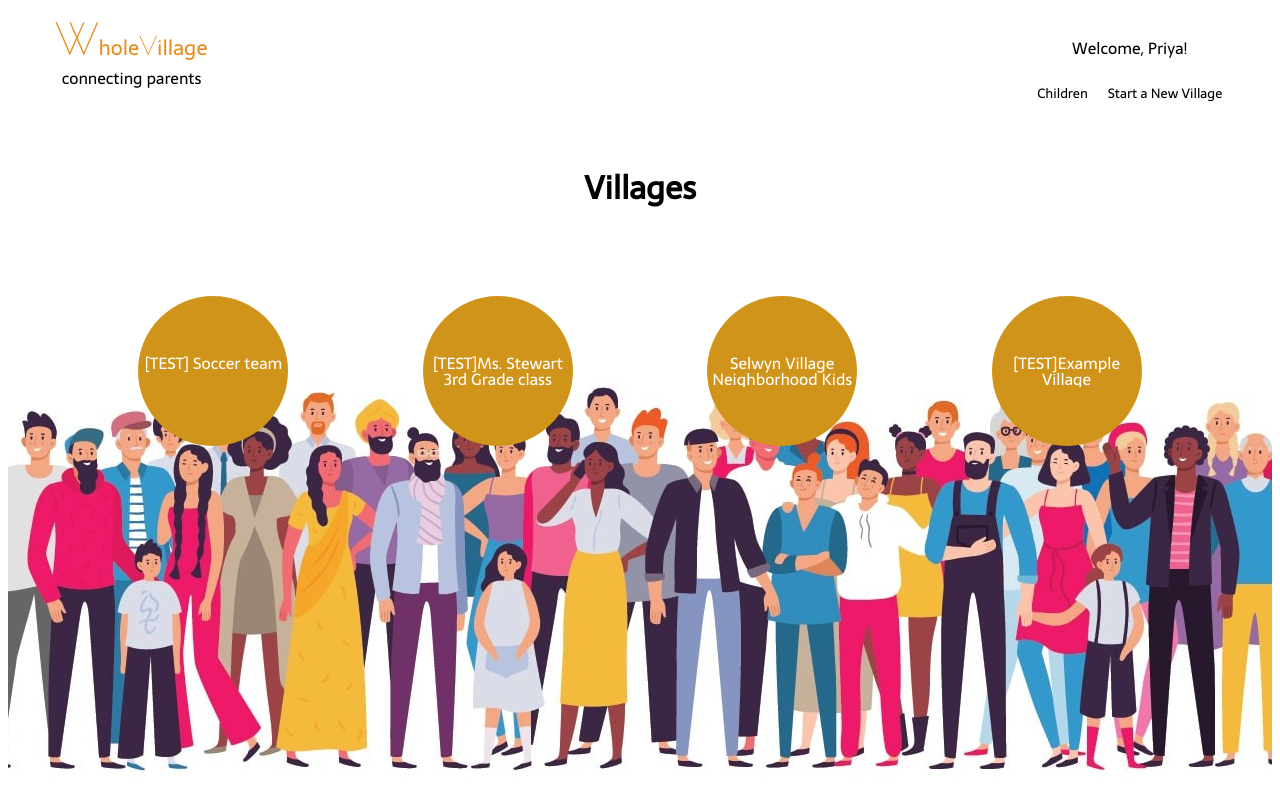
Scenario: Dashboard User Flows › Should be able to show village invitee list
Click the button with class "start-village-btn" at [1166, 93], box 1102,81 -> 1229,105
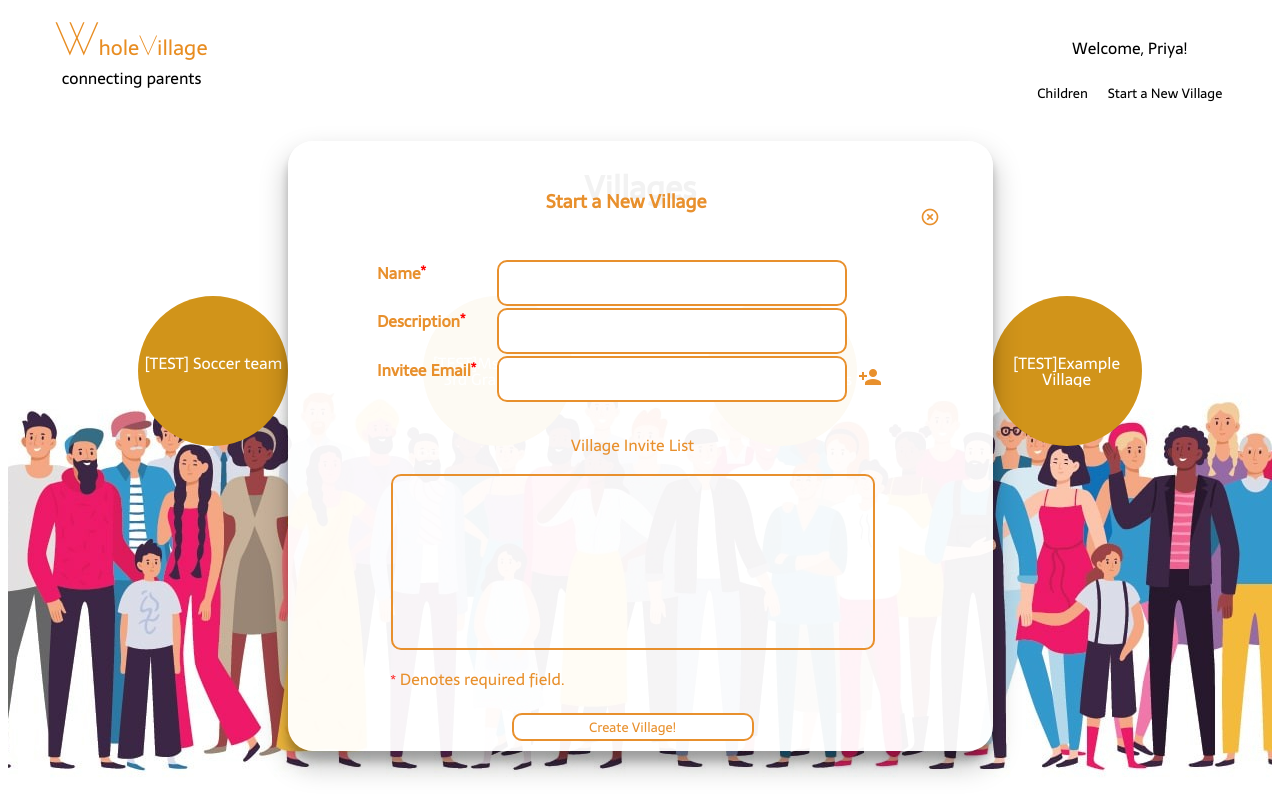
Type "ExampleInvitee@example.com" into the 3rd field at [672, 379], box 497,356 -> 847,402
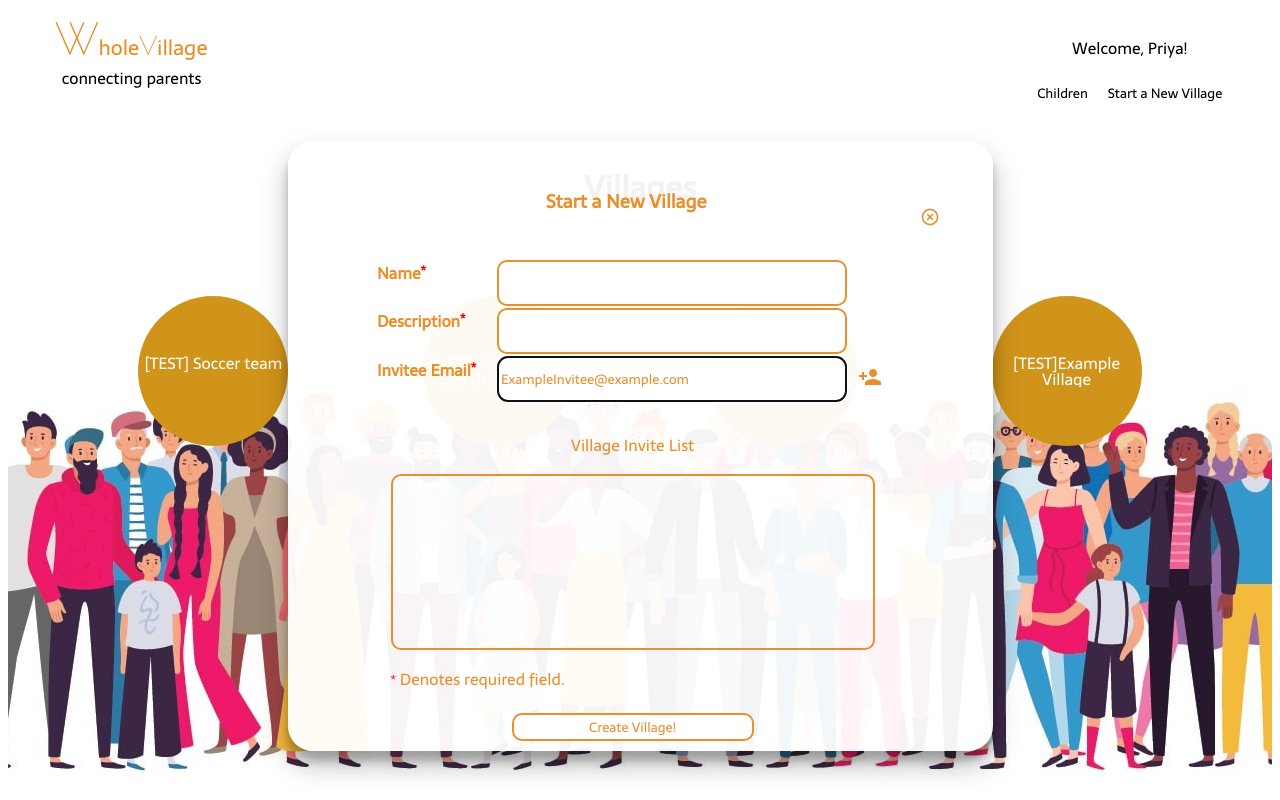
Click the button with class "add-member-btn" at [870, 381], box 852,356 -> 888,406
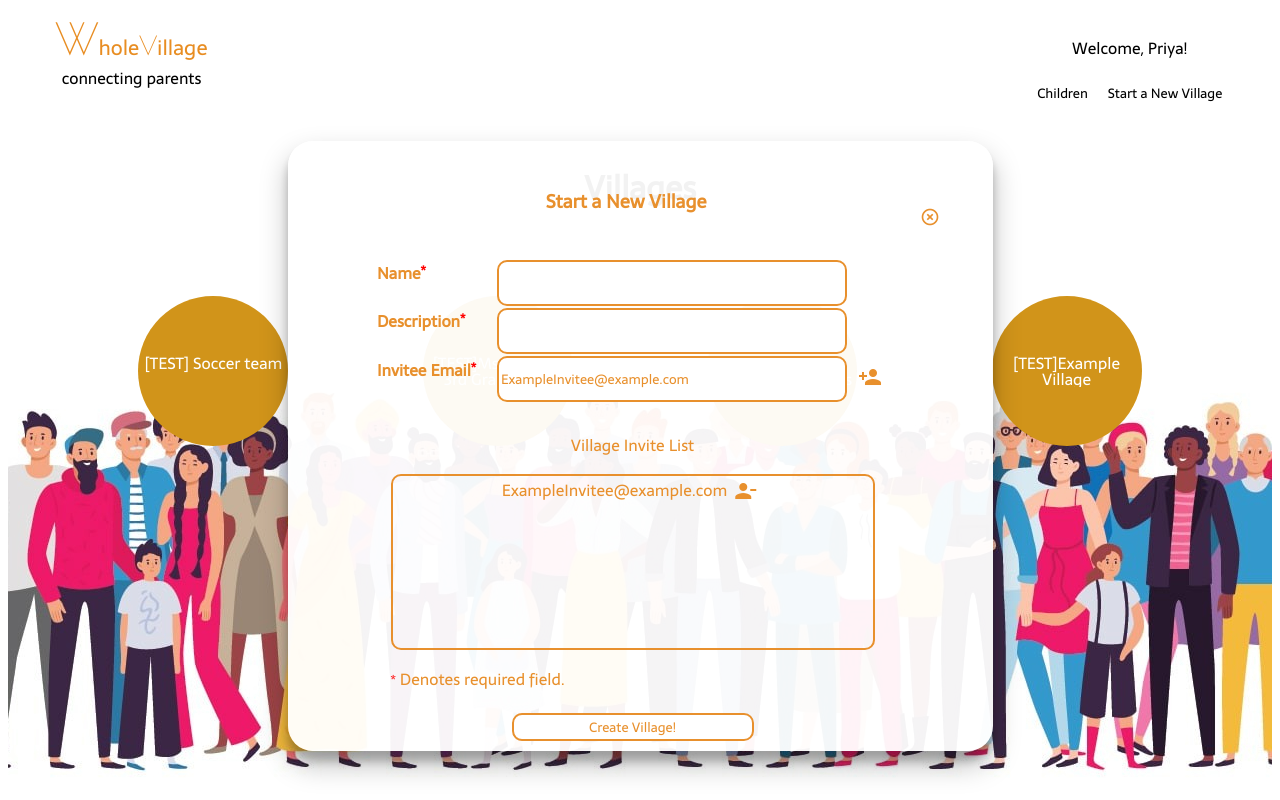
Now the text "ExampleInvitee@example.com" is shown, box 502,477 -> 727,510
